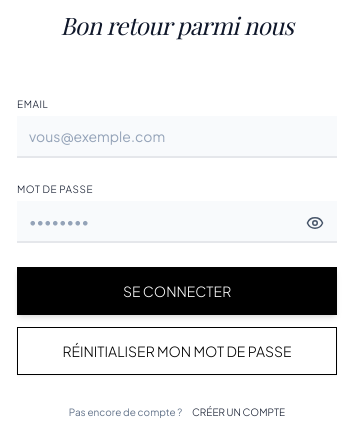
AC-02-05: toggles password visibility with click and keyboard without changing or submitting it
Type "Example-password-42!" into the password field labelled "Mot de passe" at (177, 222), box [17, 201, 337, 243]
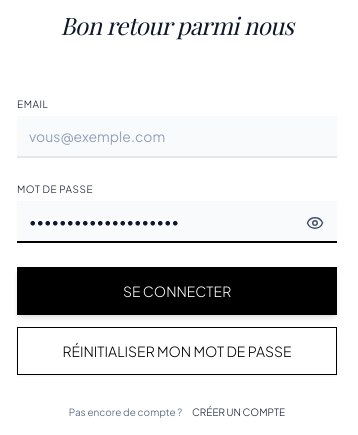
Click the button named "Afficher le mot de passe" at (315, 223), box [293, 201, 337, 245]
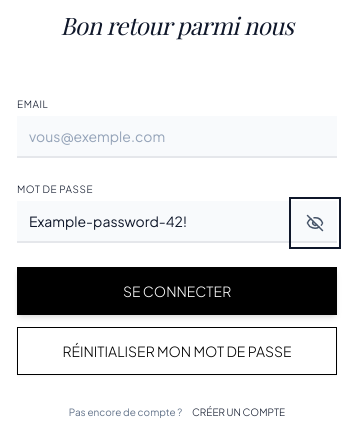
Result: the field labelled "Mot de passe" shows its text at [17, 201, 337, 243]
Press Enter
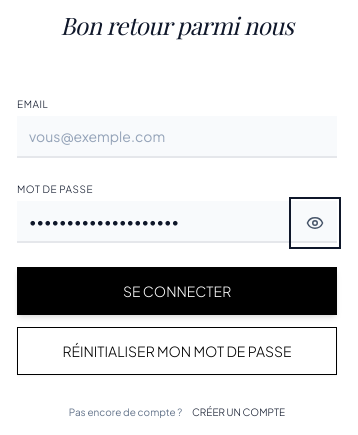
Result: the password field labelled "Mot de passe" hides its text at [17, 201, 337, 243]
